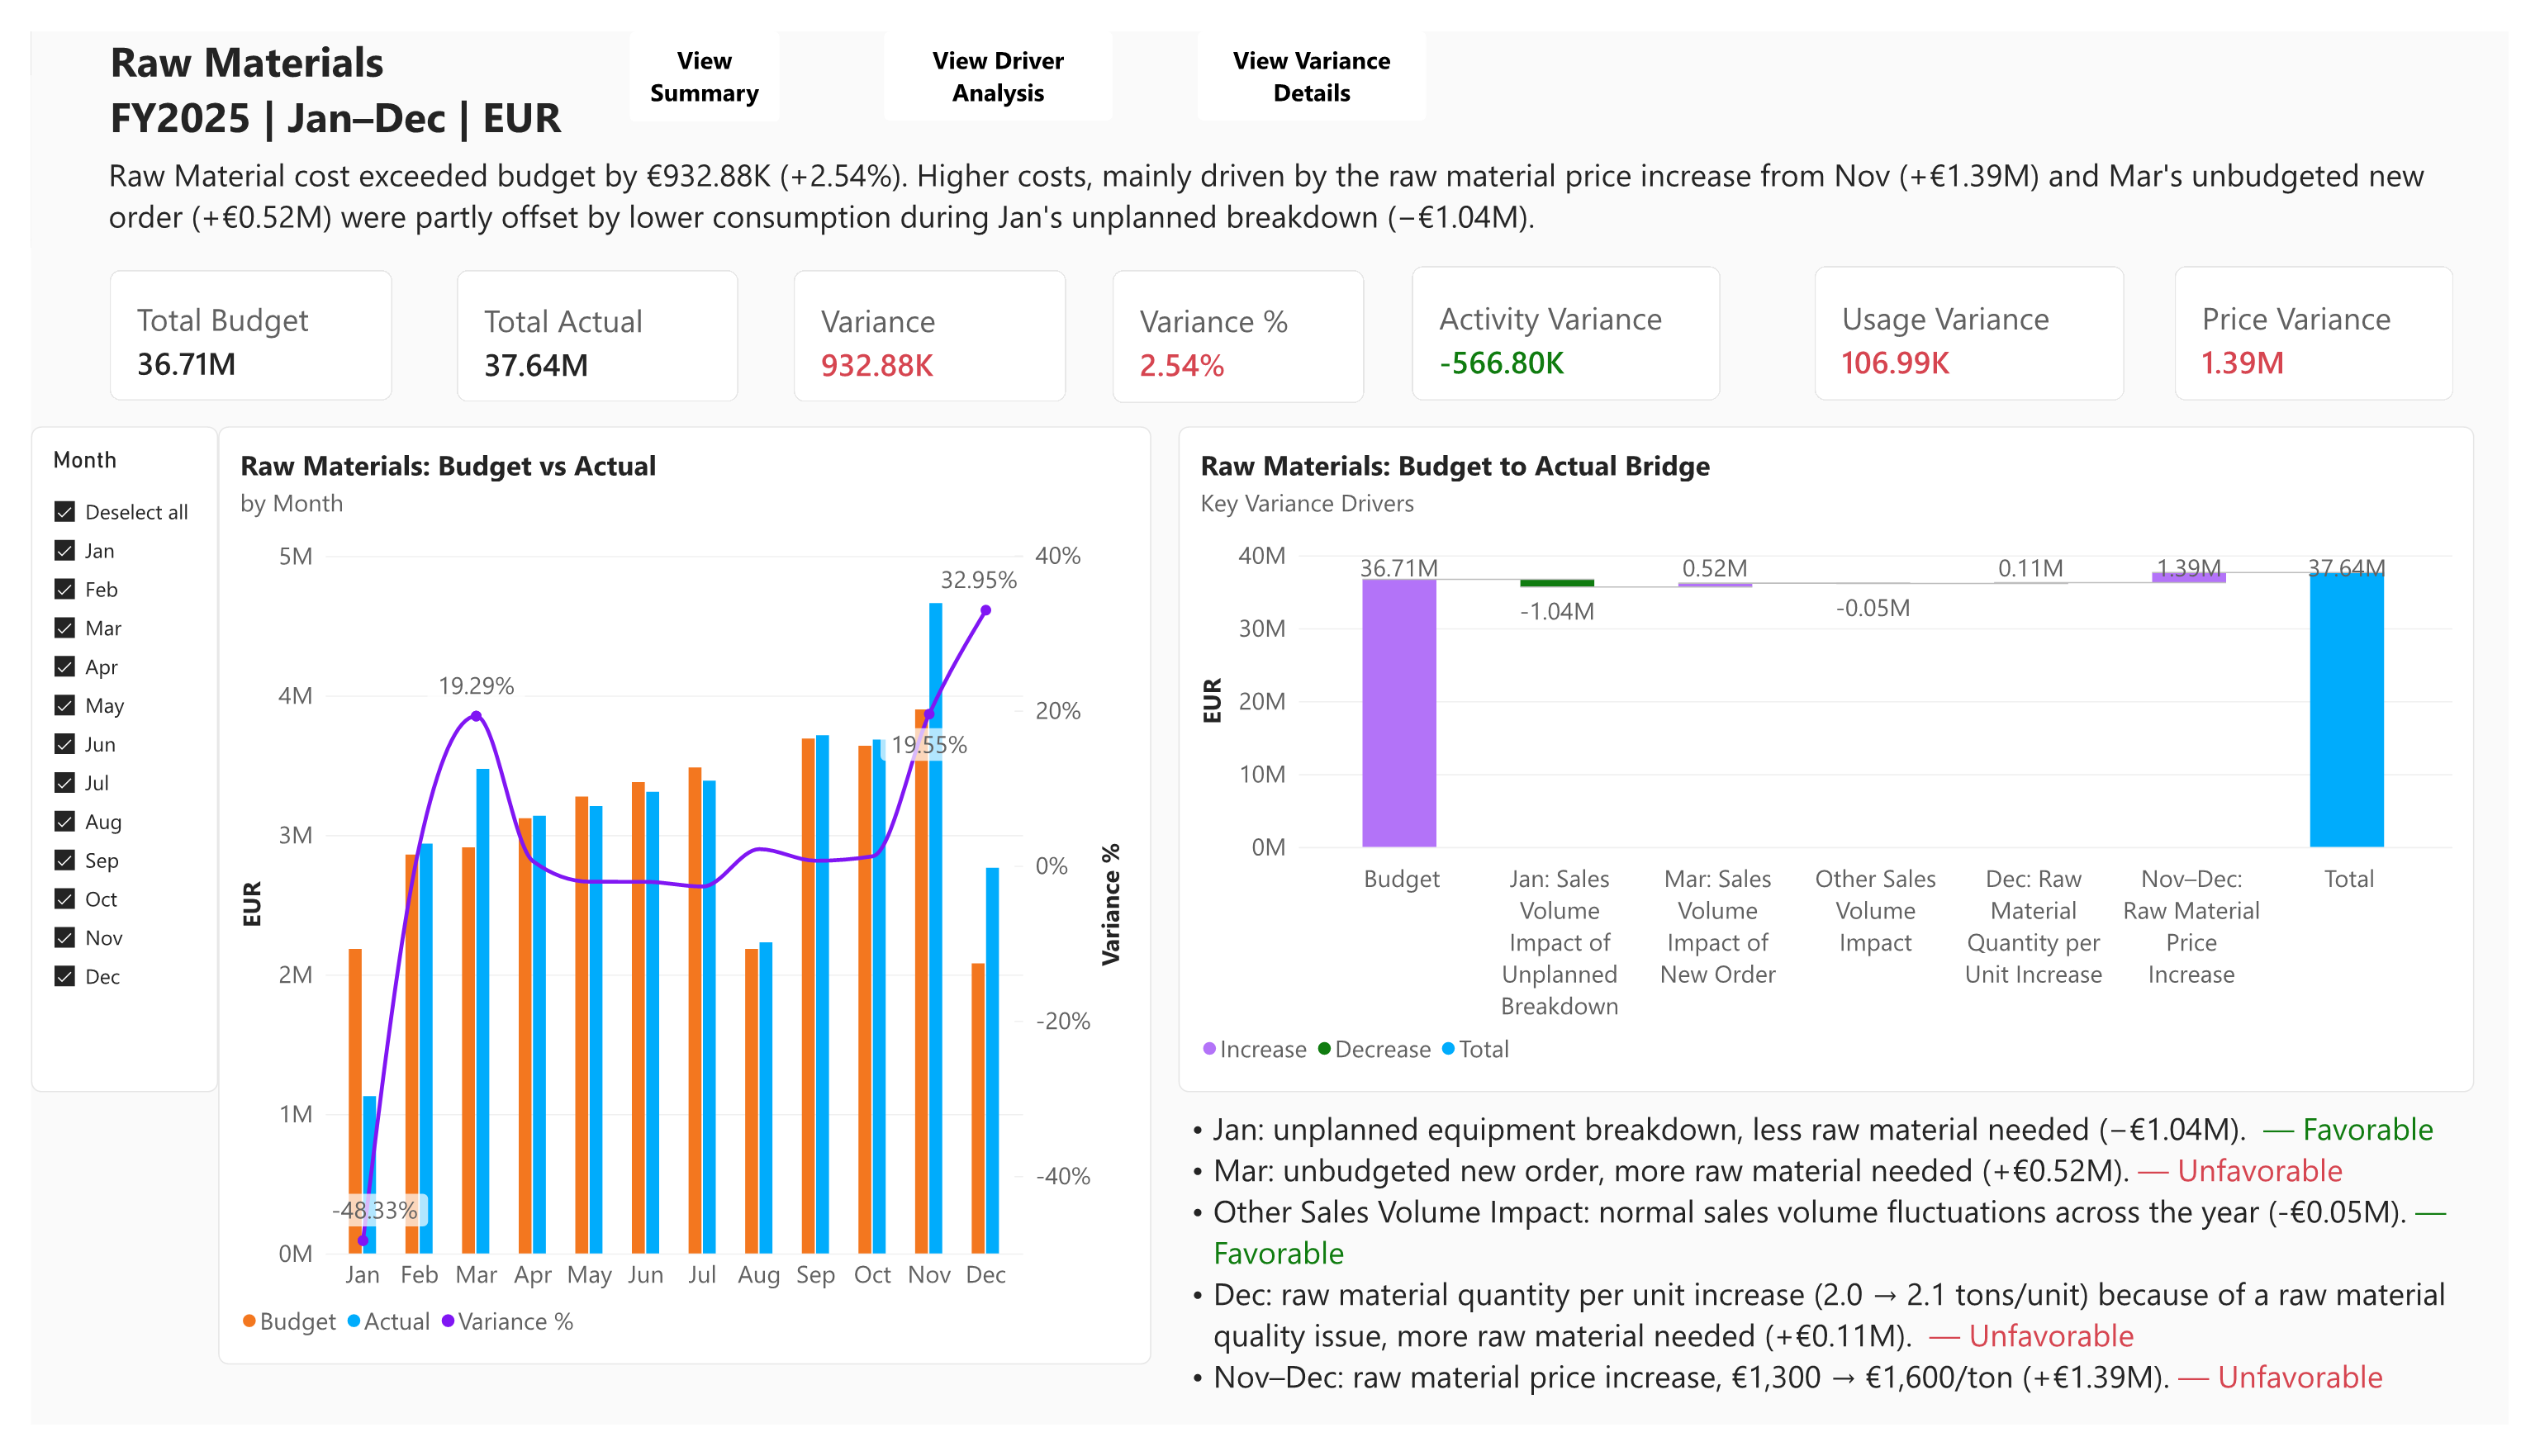

The page's visual inventory and layout, read from the dashboard file:
{"tool":"powerbi","page":{"name":"Raw Materials - Overview","canvas":[1920,1080],"ordinal":4},"visuals":[{"type":"listSlicer","fields":{"Values":["Dim_Date.Month"]},"box":[0,306.3,144.7,515.2],"z":0},{"type":"textbox","box":[61.1,0,461.4,105.4],"z":1000},{"type":"lineClusteredColumnComboChart","title":"Raw Materials: Budget vs Actual","fields":{"Category":["Dim_Date.Month"],"Y":["_Measures.Budget RM Amount","_Measures.Actual RM Amount"],"Y2":["_Measures.RM Variance %","_Measures.RM Variance % Label Threshold"]},"box":[145.3,306.3,722.3,726.6],"z":2000},{"type":"waterfallChart","title":"Raw Materials: Budget to Actual Bridge","fields":{"Category":["Raw Materials Bridge.Category"],"Y":["Raw Materials Bridge.RM Bridge Value"]},"box":[889,306.3,1004.4,515.7],"z":3000},{"type":"cardVisual","fields":{"Data":["_Measures.Budget RM Amount"]},"box":[60.9,165,219.1,140.6],"z":4000},{"type":"cardVisual","fields":{"Data":["_Measures.Actual RM Amount"]},"box":[330,165,217.7,142],"z":5000},{"type":"cardVisual","fields":{"Data":["_Measures.RM Variance %"]},"box":[838.4,165,194.7,143.3],"z":6000},{"type":"cardVisual","fields":{"Data":["_Measures.RM Volume Variance"]},"box":[1069.6,162.3,239.2,144.2],"z":7000},{"type":"cardVisual","fields":{"Data":["_Measures.RM Price Variance"]},"box":[1660.6,162.3,216.4,143.3],"z":8000},{"type":"cardVisual","fields":{"Data":["_Measures.RM Variance"]},"box":[590.9,165,211,142],"z":9000},{"type":"cardVisual","fields":{"Data":["_Measures.RM Usage Variance"]},"box":[1382,162.3,239.6,143.5],"z":10000},{"type":"textbox","box":[60.3,93.5,1798.5,87.9],"z":11000},{"type":"textbox","box":[880.5,833.4,997.3,236.5],"z":12000},{"type":"actionButton","box":[661.4,0,176.5,69.4],"z":13000},{"type":"actionButton","box":[904.3,0,176.5,69.4],"z":14000},{"type":"actionButton","box":[464.3,0,115.7,70],"z":15000}]}

Visuals, with their boxes on the page's 1920x1080 design canvas (x1, y1, x2, y2). These are canvas units, not pixel positions in the 2540x1456 screenshot, which may show the page scaled, cropped or inside an application window:
listSlicer - Dim_Date.Month: BBox(0, 306, 145, 822)
textbox: BBox(61, 0, 522, 105)
"Raw Materials: Budget vs Actual" lineClusteredColumnComboChart: BBox(145, 306, 868, 1033)
"Raw Materials: Budget to Actual Bridge" waterfallChart: BBox(889, 306, 1893, 822)
cardVisual - _Measures.Budget RM Amount: BBox(61, 165, 280, 306)
cardVisual - _Measures.Actual RM Amount: BBox(330, 165, 548, 307)
cardVisual - _Measures.RM Variance %: BBox(838, 165, 1033, 308)
cardVisual - _Measures.RM Volume Variance: BBox(1070, 162, 1309, 306)
cardVisual - _Measures.RM Price Variance: BBox(1661, 162, 1877, 306)
cardVisual - _Measures.RM Variance: BBox(591, 165, 802, 307)
cardVisual - _Measures.RM Usage Variance: BBox(1382, 162, 1622, 306)
textbox: BBox(60, 94, 1859, 181)
textbox: BBox(880, 833, 1878, 1070)
actionButton: BBox(661, 0, 838, 69)
actionButton: BBox(904, 0, 1081, 69)
actionButton: BBox(464, 0, 580, 70)
